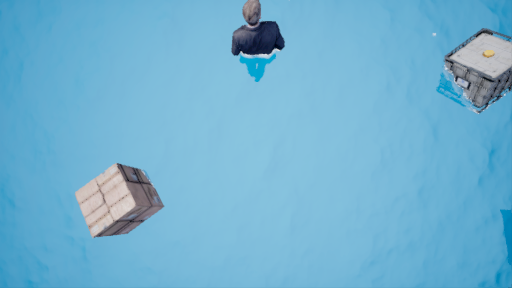person: (231, 1, 283, 81)
